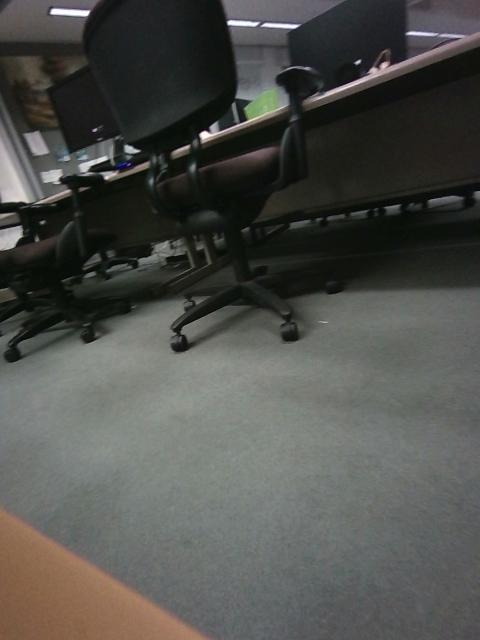block: (208, 363, 279, 415)
